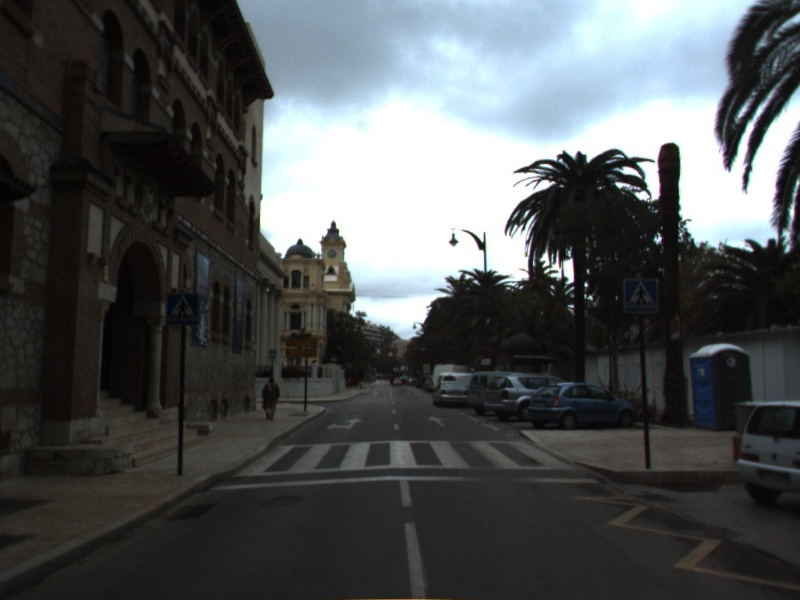STRAIGHT: (425, 414, 449, 429)
STRAIGHT_LEFT: (324, 415, 365, 432)
